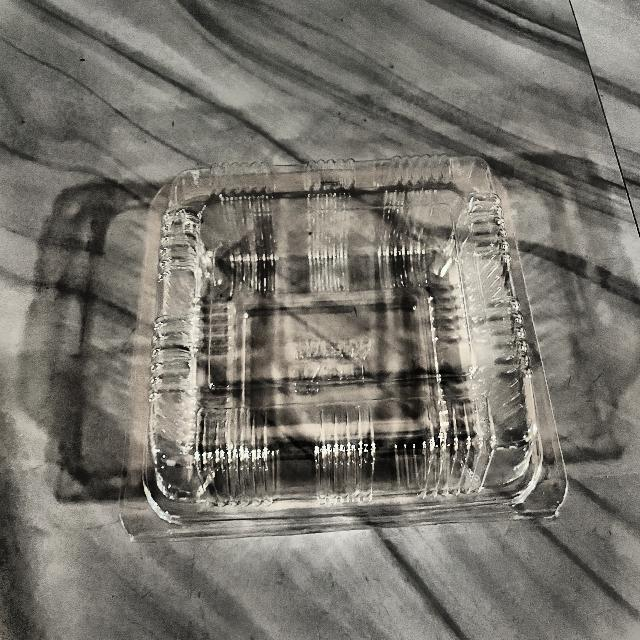plastic container: (130, 146, 593, 571)
